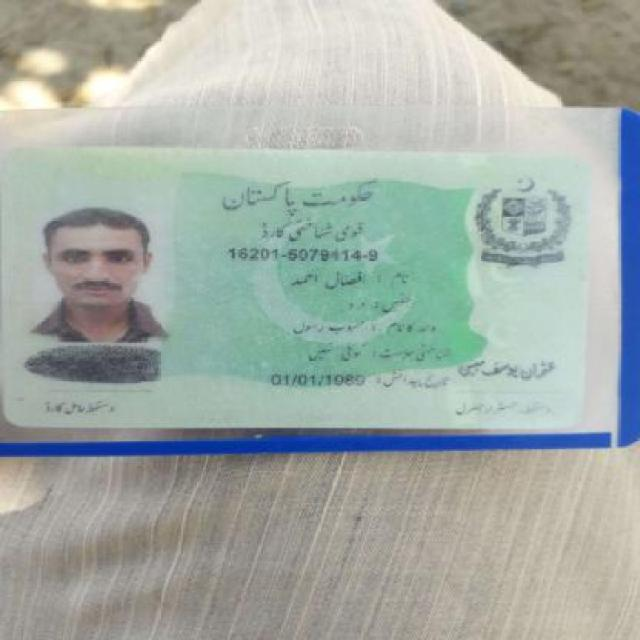Front: (6, 137, 622, 440)
